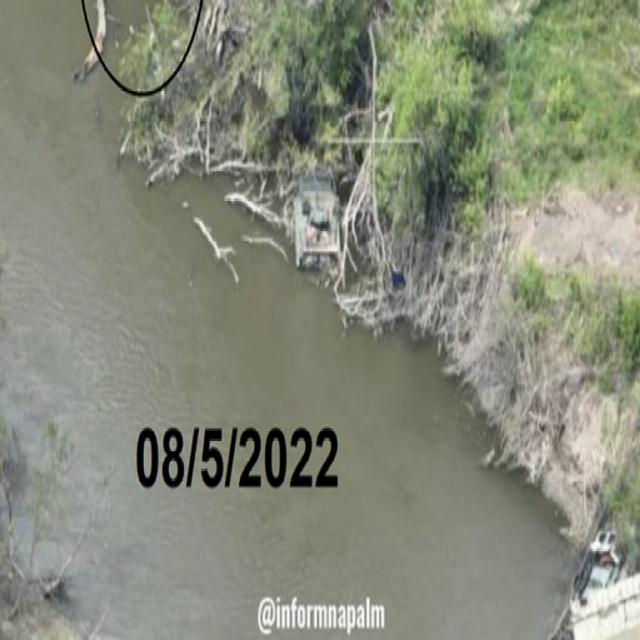APC-IFV: (286, 164, 348, 276)
